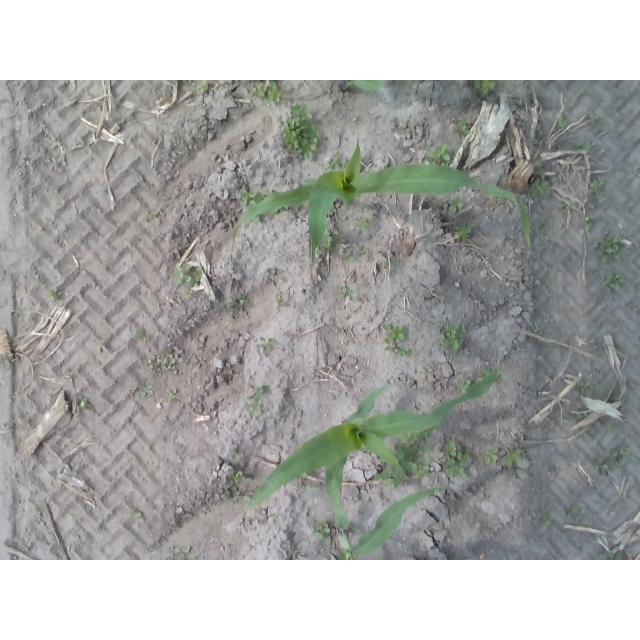Maize: (231, 138, 532, 275), (243, 369, 498, 519), (331, 488, 446, 560), (341, 80, 384, 92)
Weeds: (283, 116, 320, 160), (445, 442, 472, 479), (441, 324, 466, 352), (256, 81, 285, 103), (600, 236, 622, 264), (428, 144, 453, 165), (382, 325, 406, 344), (376, 469, 396, 487), (174, 263, 190, 285), (531, 180, 549, 198), (173, 546, 195, 560), (396, 445, 418, 459), (328, 152, 345, 170), (292, 105, 312, 120), (474, 81, 495, 95), (186, 269, 202, 286), (485, 447, 500, 465), (507, 449, 522, 467), (449, 195, 464, 213), (593, 456, 609, 472), (314, 523, 330, 539), (402, 435, 426, 445), (260, 337, 276, 351), (344, 284, 357, 301), (239, 190, 254, 204), (248, 399, 261, 415), (589, 182, 604, 195), (138, 385, 154, 397), (356, 216, 370, 229), (455, 121, 470, 133), (231, 470, 246, 482), (584, 214, 597, 227), (418, 464, 430, 478), (615, 270, 626, 285), (558, 114, 570, 127), (459, 226, 471, 239), (79, 396, 90, 410), (128, 509, 143, 519), (324, 231, 332, 249), (605, 277, 616, 290), (256, 386, 268, 397), (241, 294, 252, 306), (166, 389, 178, 400), (134, 329, 147, 339), (619, 448, 633, 457), (579, 381, 593, 390), (384, 346, 399, 354), (404, 461, 417, 470), (230, 451, 241, 461), (165, 359, 175, 370), (569, 506, 580, 516), (198, 83, 210, 92), (148, 356, 156, 369), (576, 144, 589, 152), (49, 290, 59, 300), (337, 239, 347, 249), (400, 350, 413, 357), (234, 492, 243, 502), (461, 380, 471, 389), (145, 211, 153, 222), (590, 113, 598, 124), (51, 137, 58, 149), (543, 515, 551, 525), (228, 300, 238, 308), (347, 254, 356, 262), (278, 298, 286, 306), (549, 464, 557, 472), (99, 346, 108, 353), (185, 291, 194, 298), (361, 246, 368, 255), (483, 366, 490, 375), (167, 348, 173, 358), (53, 150, 60, 158), (617, 458, 624, 466), (606, 424, 614, 431), (301, 486, 311, 491), (599, 197, 606, 204), (610, 398, 619, 403), (578, 414, 587, 419), (573, 391, 580, 397), (558, 204, 566, 209), (613, 451, 618, 457), (334, 229, 339, 235), (587, 88, 593, 93), (542, 220, 548, 225), (584, 432, 588, 437), (188, 80, 193, 84), (270, 515, 275, 518)
